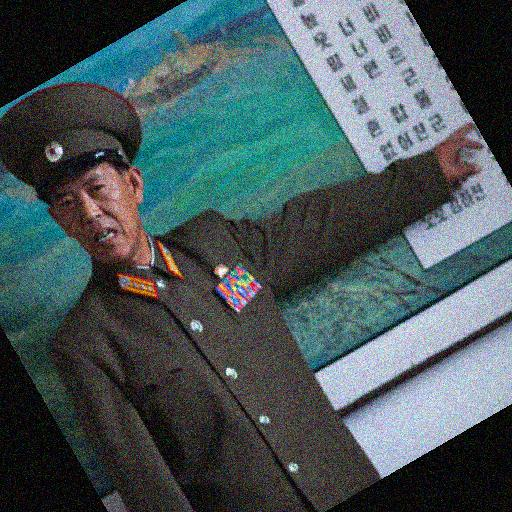north army: (11, 67, 404, 504)
